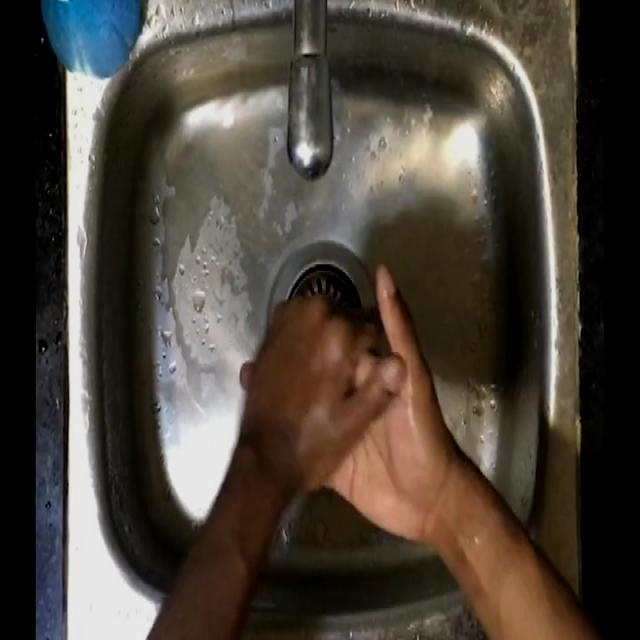step_5: (235, 258, 436, 532)
